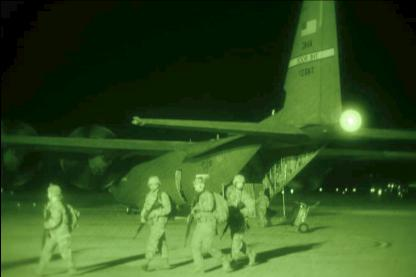Be200: (0, 1, 415, 228)
